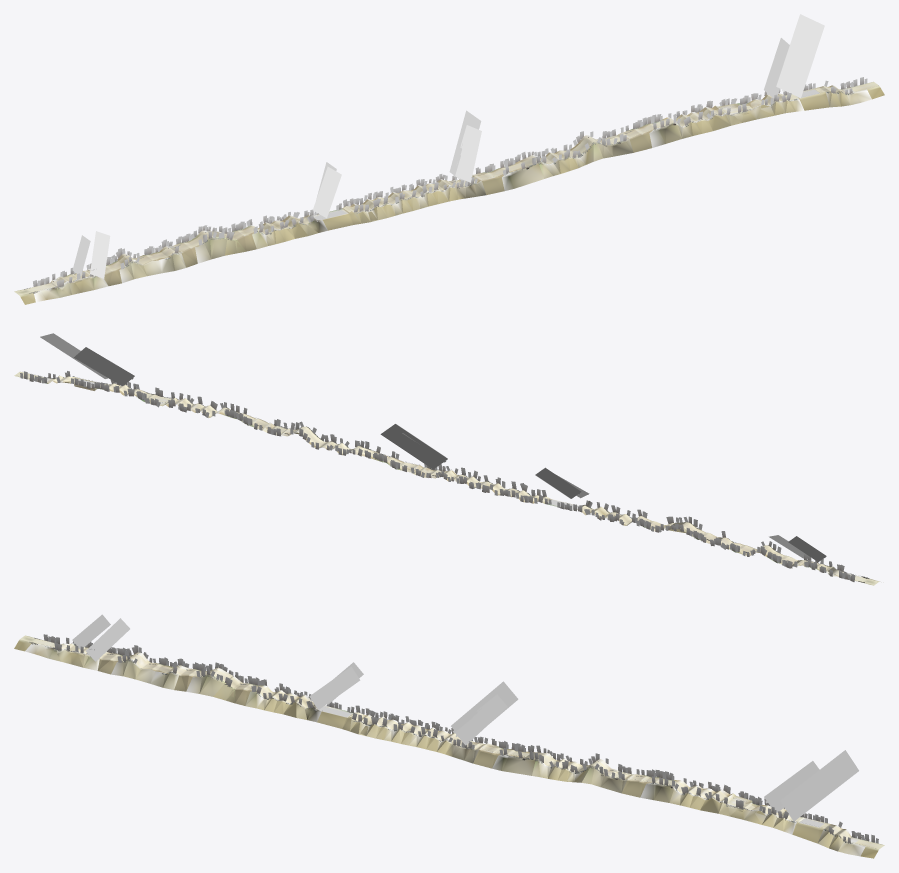
File: Beach_07.fbx
The picture shows the model from 3 angles, top to bottom: view 1: azimuth 30°, elevation 25°; view 2: azimuth 150°, elevation 25°; view 3: azimuth 330°, elevation 25°; orthographic projection.
Parts seen in each view (by area): view 1: Mountain_01, Tree_01, Light_01, Road_01, Ground_01; view 2: Tree_01, Light_01, Ground_01, Road_01; view 3: Mountain_01, Light_01, Tree_01, Road_01, Ground_01.
Part boxes in pixels (x1=…): Mountain_01: x1=34, y1=89, x2=871, y2=302; Tree_01: x1=33, y1=77, x2=867, y2=293; Light_01: x1=72, y1=14, x2=824, y2=278; Road_01: x1=14, y1=82, x2=884, y2=304; Ground_01: x1=15, y1=82, x2=878, y2=295; Tree_01: x1=20, y1=371, x2=867, y2=581; Light_01: x1=40, y1=333, x2=826, y2=561; Ground_01: x1=15, y1=372, x2=878, y2=585; Road_01: x1=14, y1=371, x2=879, y2=585; Mountain_01: x1=25, y1=643, x2=865, y2=856; Light_01: x1=72, y1=614, x2=858, y2=821; Tree_01: x1=31, y1=634, x2=878, y2=843; Road_01: x1=14, y1=635, x2=884, y2=858; Ground_01: x1=20, y1=636, x2=883, y2=848.
Size of the model in its own units: 119604 by 10209 by 7113.
